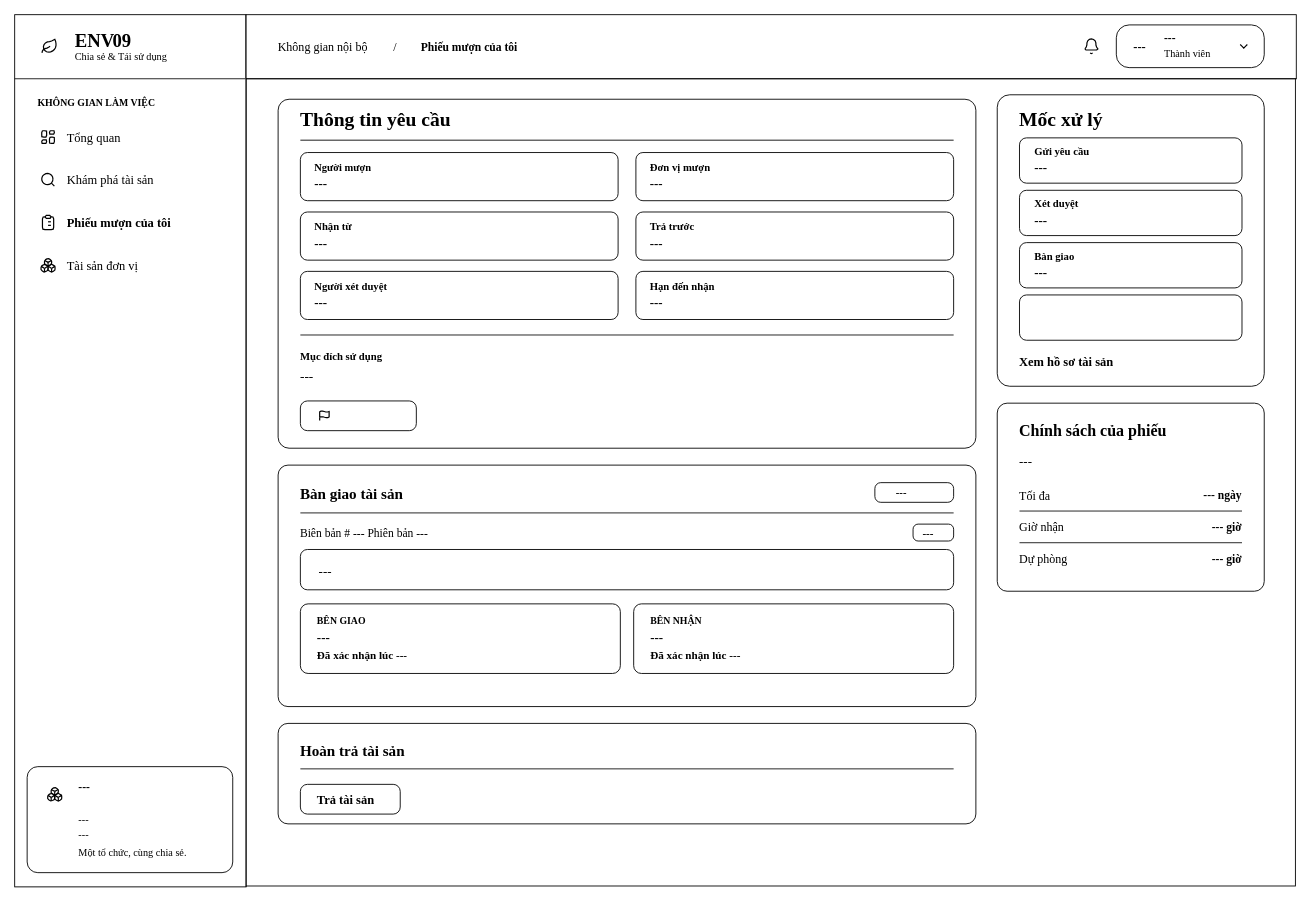
This 1311x902 diagram has some shape labels left out. The centre of each missing label's shape, as x and y in pixels:
Báo sự cố: pixel 357 415
Hoàn trả: pixel 1130 317
